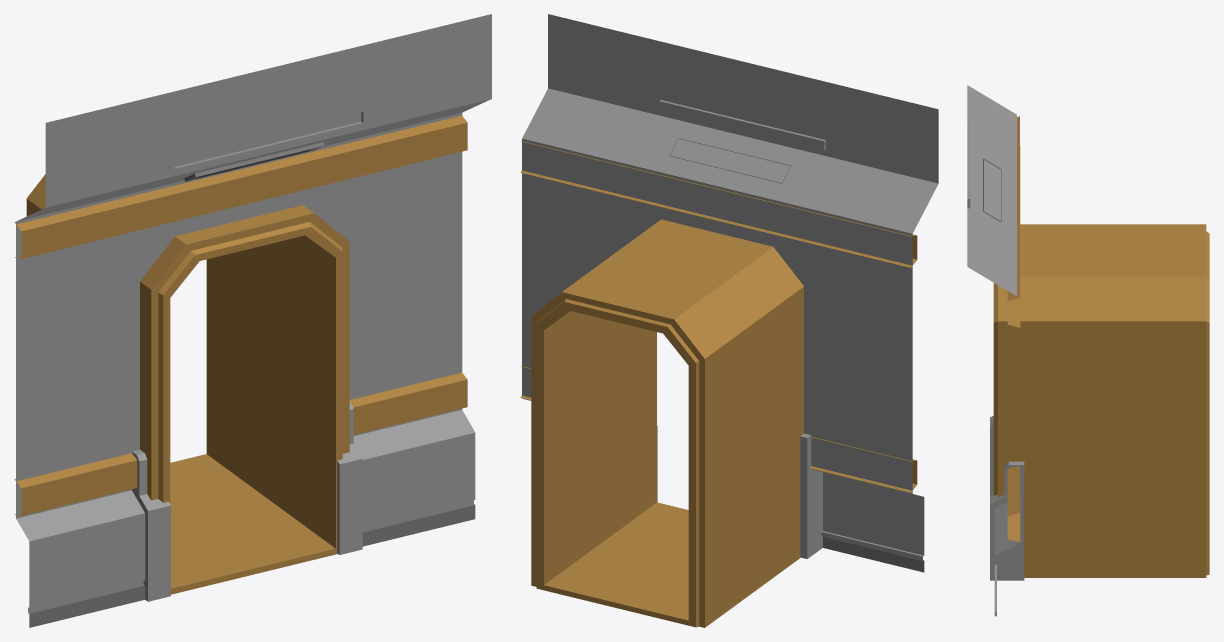
The model's file is doorsinglelong-wall-sidea-1d9da3c266.glb.
3 views of the same model, side by side, from view 1: azimuth 30°, elevation 25°; view 2: azimuth 150°, elevation 25°; view 3: azimuth 270°, elevation 25° (orthographic). The views are drawn at different scales.
Parts seen in each view (by area): view 1: DoorSingleLong_Wall_SideA.obj; view 2: DoorSingleLong_Wall_SideA.obj; view 3: DoorSingleLong_Wall_SideA.obj.
Boxes of the visible parts, <box> form: DoorSingleLong_Wall_SideA.obj: <box>14,14,491,627</box>; DoorSingleLong_Wall_SideA.obj: <box>520,14,938,627</box>; DoorSingleLong_Wall_SideA.obj: <box>967,85,1209,616</box>.
Size of the model in its own units: 4 by 4.44 by 2.25.
